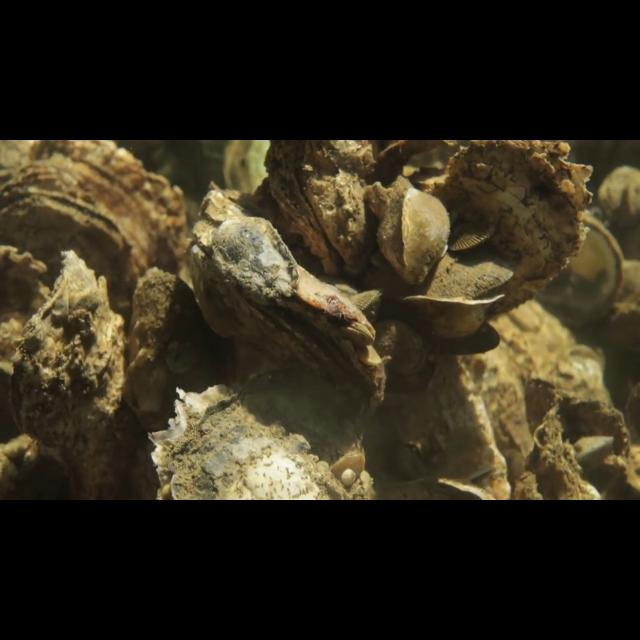Oyster-Closed: (187, 188, 388, 426), (146, 359, 380, 498), (8, 245, 137, 496), (430, 141, 597, 323), (5, 141, 183, 268), (1, 181, 150, 314), (121, 261, 237, 413), (257, 142, 377, 278), (524, 374, 640, 499), (204, 210, 308, 314), (376, 184, 455, 290), (0, 243, 55, 376), (295, 278, 380, 352), (406, 248, 522, 299), (404, 300, 495, 340), (378, 316, 434, 379), (447, 201, 504, 255), (571, 431, 617, 478), (348, 280, 389, 323), (355, 344, 384, 373)
